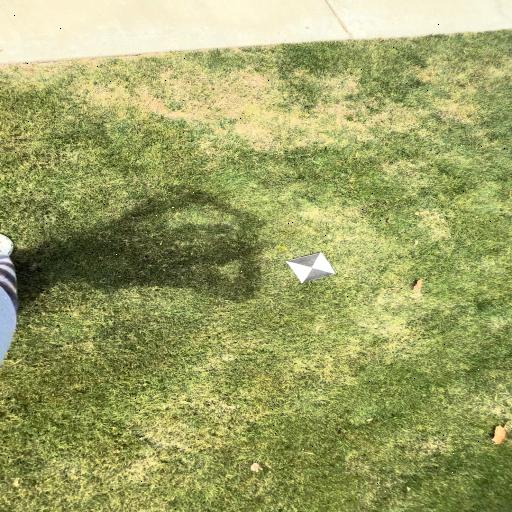target: (285, 253, 335, 283)
